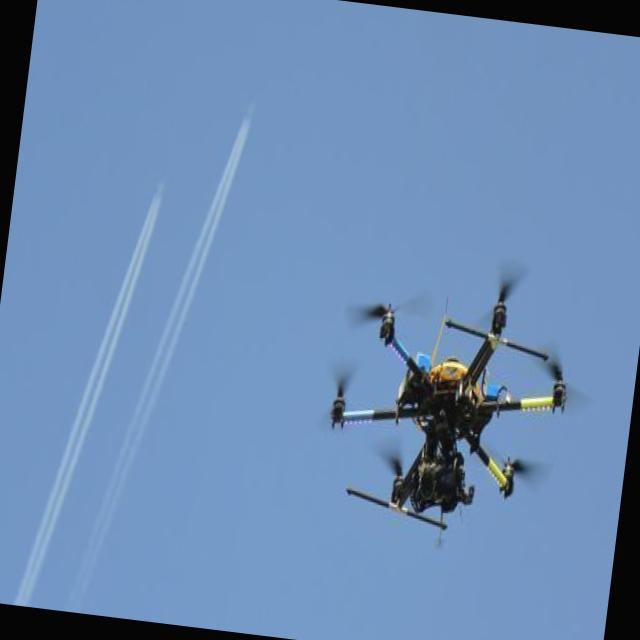drone: (314, 240, 586, 565)
